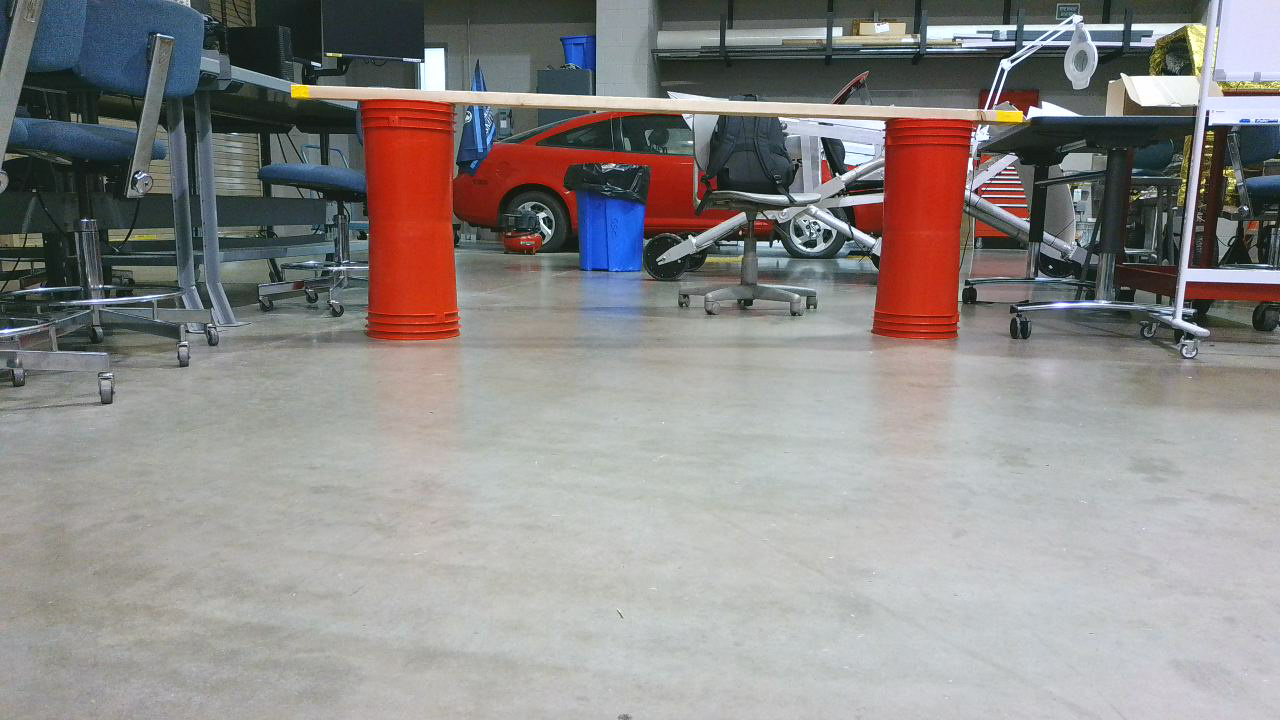red_bucket_arch: (367, 91, 977, 342)
